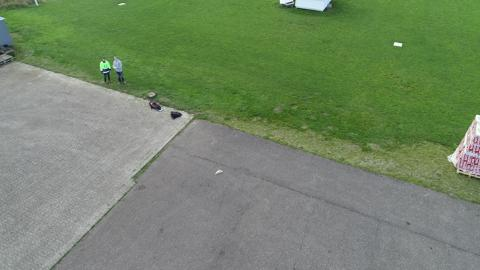RockwoolPallet: (453, 114, 480, 184)
